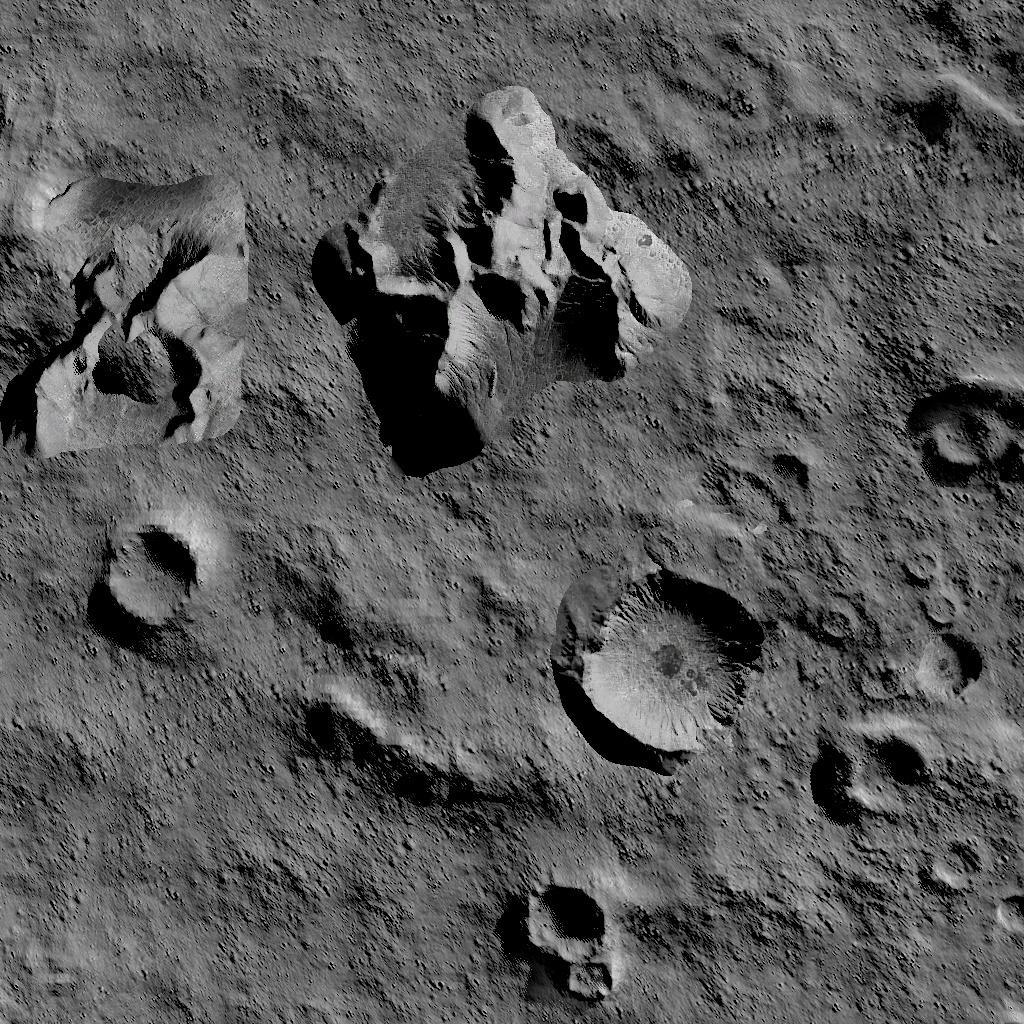Boulders: (314, 85, 692, 473), (0, 138, 246, 458), (301, 685, 563, 828), (891, 0, 1024, 185)
Crater: (576, 568, 768, 760), (516, 875, 620, 1010), (98, 525, 206, 638), (918, 380, 1024, 490), (831, 722, 940, 828)
Plan surface: (0, 650, 288, 1024), (0, 0, 301, 125), (303, 840, 503, 1024)
